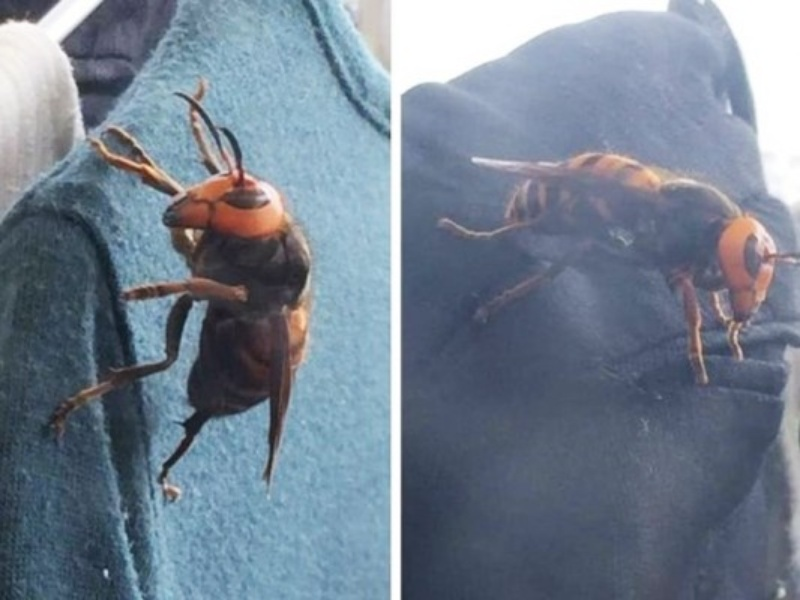asian_giant_hornet: (87, 106, 314, 490), (467, 142, 783, 375)
